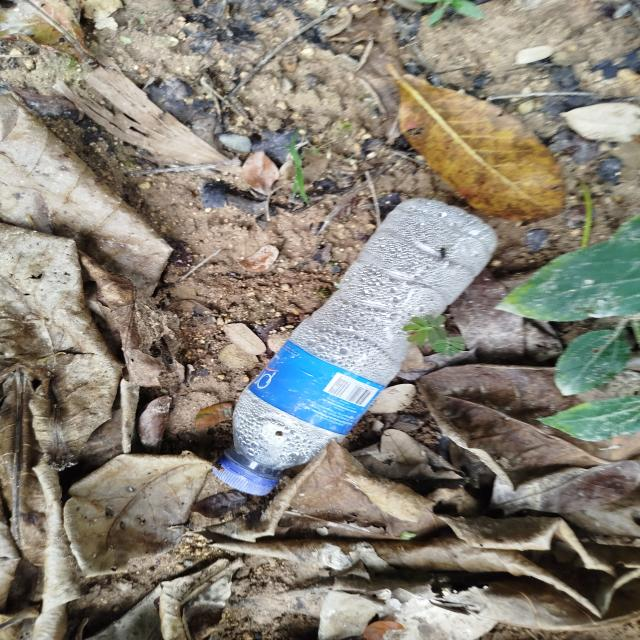plastic: (212, 189, 492, 507)
